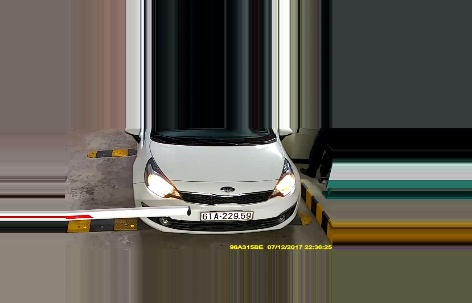plate: (199, 207, 253, 222)
